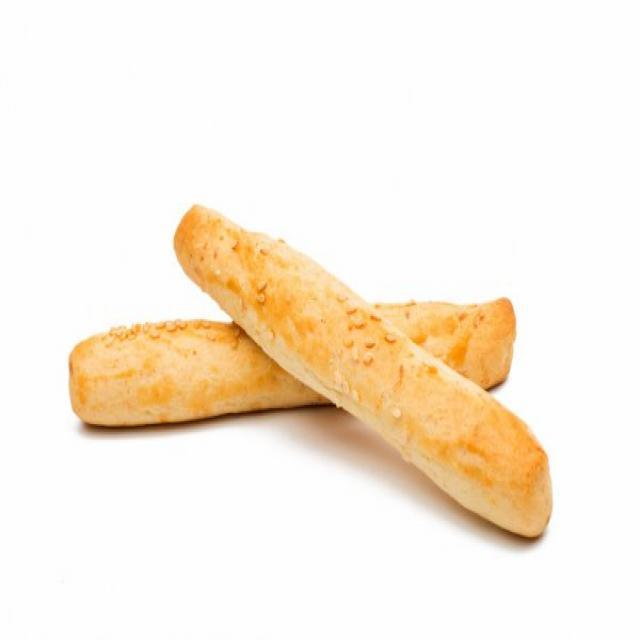Grissini: (167, 203, 554, 541)
